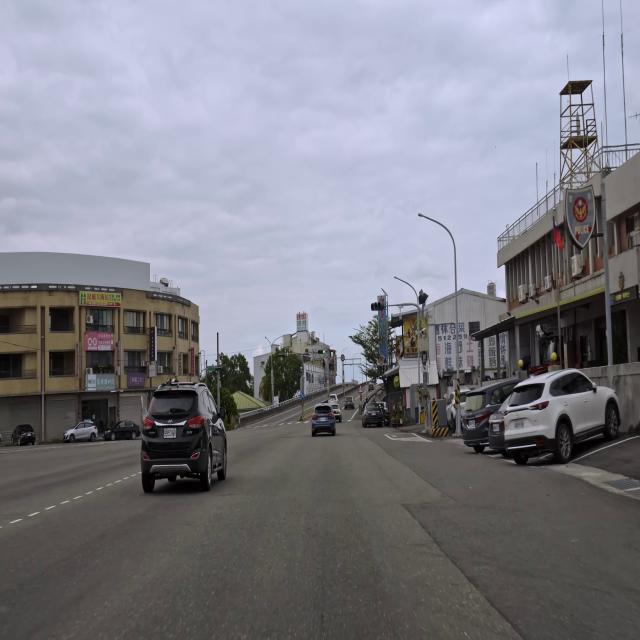green light: (318, 350, 325, 354)
